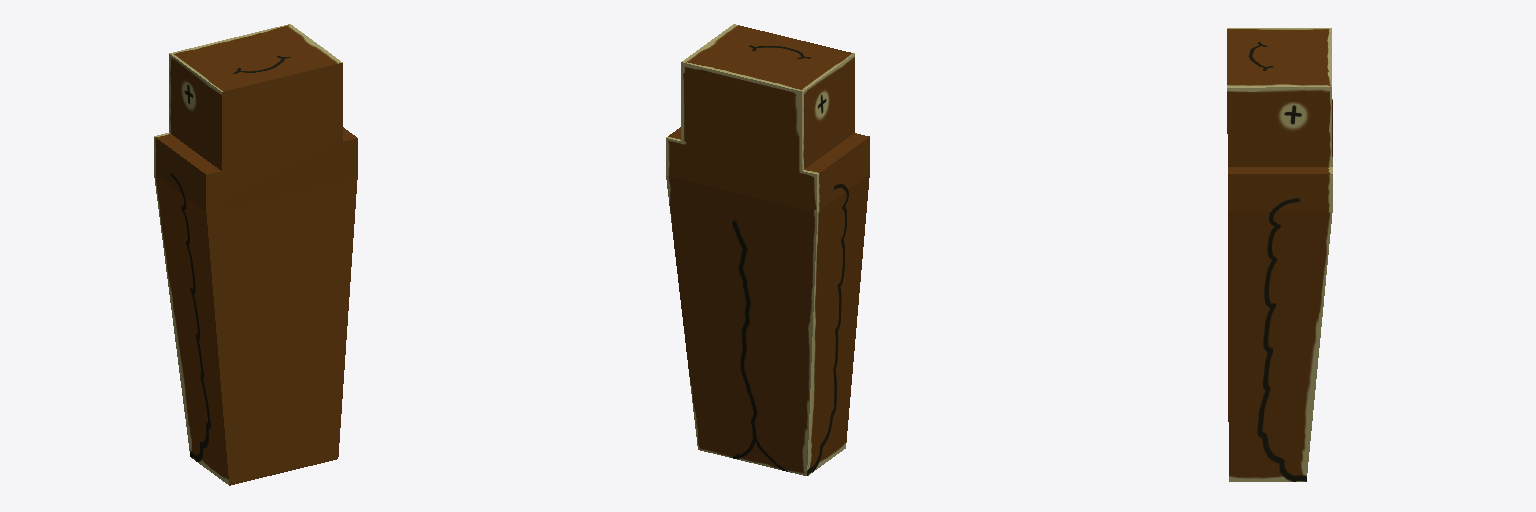
3 views of the same model, side by side, from view 1: azimuth 30°, elevation 25°; view 2: azimuth 150°, elevation 25°; view 3: azimuth 270°, elevation 25° (orthographic).
Size of the model in its own units: 0.3226 by 0.8071 by 0.1943.
Materials: 1 (1 with a texture image).